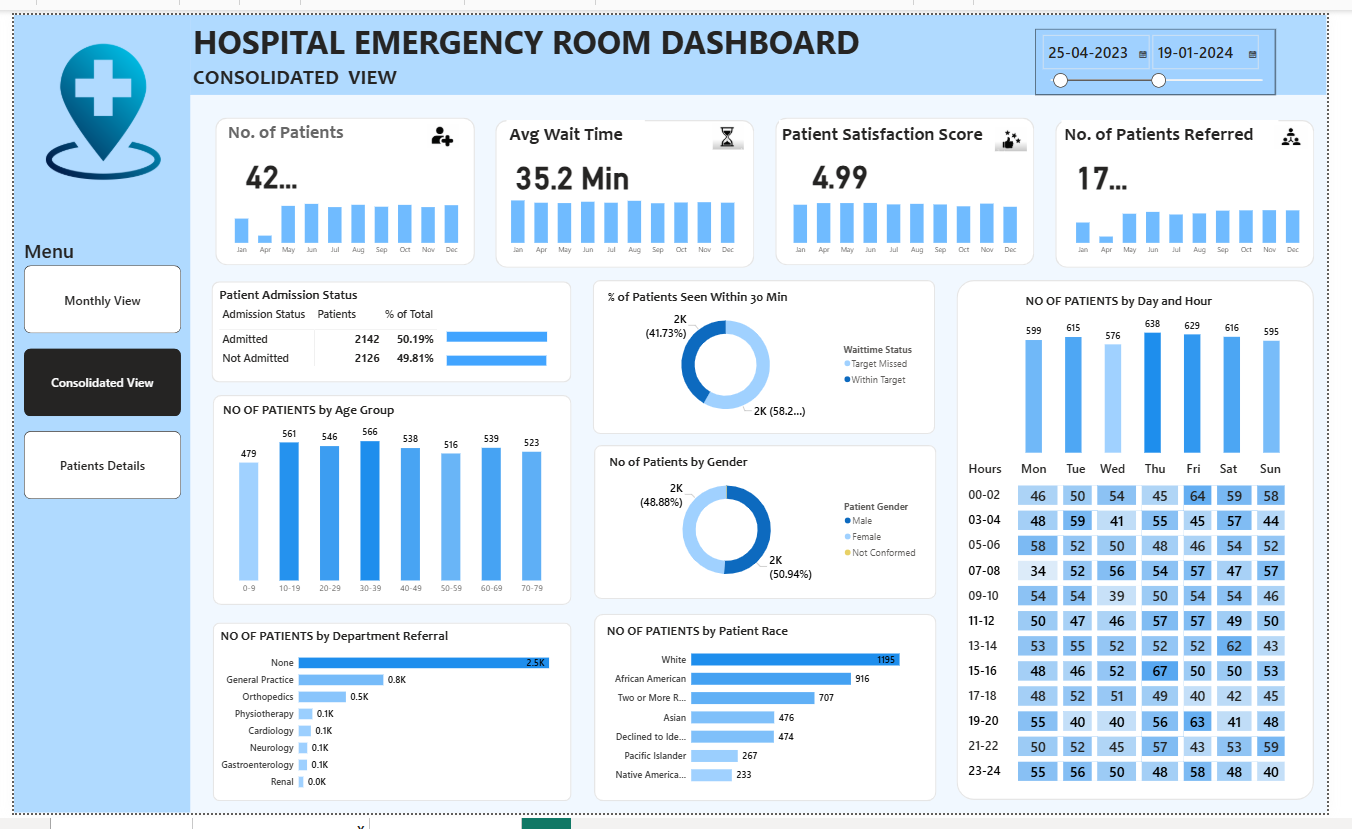

The page's visual inventory and layout, read from the dashboard file:
{"tool":"powerbi","page":{"name":"Consolidated View","canvas":[2300,1399],"ordinal":1},"visuals":[{"type":"shape","box":[0,0,308.8,1397.3],"z":0},{"type":"shape","box":[308.8,0,1990.8,140.2],"z":1000},{"type":"textbox","box":[308.8,2.2,1217.7,100.7],"z":2000},{"type":"shape","box":[351.7,180.6,455,259],"z":3000},{"type":"textbox","box":[309.5,80.2,391.9,60.1],"z":4000},{"type":"card","fields":{"Values":["Hospital ER_Data (1).NO OF PATIENTS"]},"box":[394.4,240,114,71.3],"z":5000},{"type":"textbox","box":[370.7,180.6,221,59.4],"z":6000},{"type":"columnChart","fields":{"Category":["DateTime.Month Name"],"Y":["Hospital ER_Data (1).NO OF PATIENTS"]},"box":[366.5,305.3,434.8,125],"z":7000},{"type":"shape","box":[843.5,183,453.8,259],"z":8000},{"type":"shape","box":[1334.1,180.6,453.8,259],"z":9000},{"type":"shape","box":[1824.8,183,453.8,259],"z":10000},{"type":"columnChart","fields":{"Y":["Hospital ER_Data (1).No Of Patient Referred"],"Category":["DateTime.Month Name"]},"box":[1839.6,305.3,434.8,125],"z":11000},{"type":"columnChart","fields":{"Y":["Hospital ER_Data (1).satisfaction score"],"Category":["DateTime.Month Name"]},"box":[1345.4,305.3,434.8,125],"z":12000},{"type":"columnChart","fields":{"Y":["Avg(Hospital ER_Data (1).Patient Waittime)"],"Category":["DateTime.Month Name"]},"box":[848.8,305.3,434.8,125],"z":13000},{"type":"textbox","box":[862.5,183,242.4,59.4],"z":14000},{"type":"card","fields":{"Values":["Hospital ER_Data (1).Avg Time"]},"box":[869.6,242.4,218.6,71.3],"z":15000},{"type":"textbox","box":[1340.1,183,380.2,59.4],"z":16000},{"type":"shape","box":[346,466.5,630.7,177.4],"z":17000},{"type":"card","fields":{"Values":["Hospital ER_Data (1).satisfaction score"]},"box":[1368.6,240,156.8,71.3],"z":18000},{"type":"textbox","box":[1834.3,183,380.2,59.4],"z":19000},{"type":"card","fields":{"Values":["Hospital ER_Data (1).No Of Patient Referred"]},"box":[1848.6,242.4,114,71.3],"z":20000},{"type":"pivotTable","title":"Patient Admission Status","fields":{"Rows":["Hospital ER_Data (1).Admission Status"],"Values":["Hospital ER_Data (1).NO OF PATIENTS1","Hospital ER_Data (1).NO OF PATIENTS"]},"box":[354.8,475.2,624.2,162.1],"z":21000},{"type":"barChart","fields":{"Category":["Hospital ER_Data (1).Admission Status"],"Y":["Hospital ER_Data (1).NO OF PATIENTS"]},"box":[753.4,521.2,256.2,122.6],"z":22000},{"type":"shape","box":[348.2,665.8,628.5,367.9],"z":23000},{"type":"clusteredColumnChart","fields":{"Category":["Hospital ER_Data (1).Age Group"],"Y":["Hospital ER_Data (1).NO OF PATIENTS"]},"box":[361.4,676.7,597.9,348.2],"z":24000},{"type":"shape","box":[348.2,1064.4,628.5,313.2],"z":25000},{"type":"clusteredBarChart","fields":{"Category":["Hospital ER_Data (1).Department Referral"],"Y":["Hospital ER_Data (1).NO OF PATIENTS"]},"box":[357,1073.1,611,297.8],"z":26000},{"type":"shape","box":[1014.4,465.2,600,270],"z":27000},{"type":"donutChart","title":"% of Patients Seen Within 30 Min","fields":{"Category":["Hospital ER_Data (1).Waittime Status"],"Y":["Hospital ER_Data (1).NO OF PATIENTS"]},"box":[1036.3,480.5,556.3,238.7],"z":28000},{"type":"shape","box":[1015.7,753.7,600,270],"z":29000},{"type":"donutChart","title":"No of Patients by Gender ","fields":{"Y":["Hospital ER_Data (1).NO OF PATIENTS"],"Category":["Hospital ER_Data (1).Patient Gender"]},"box":[1037.6,769.1,556.3,238.7],"z":30000},{"type":"shape","box":[1016.2,1049,600.1,328.5],"z":31000},{"type":"clusteredBarChart","fields":{"Y":["Hospital ER_Data (1).NO OF PATIENTS"],"Category":["Hospital ER_Data (1).Patient Race"]},"box":[1033.7,1064.4,558.5,297.8],"z":32000},{"type":"shape","box":[1651.3,464.3,626.4,911.1],"z":33000},{"type":"pivotTable","fields":{"Rows":["Hospital ER_Data (1).Waittime Interval"],"Columns":["DateTime.Day Name"],"Values":["Hospital ER_Data (1).NO OF PATIENTS"]},"box":[1662.3,773.1,604.5,584.7],"z":34000},{"type":"columnChart","title":"NO OF PATIENTS by Day and Hour","fields":{"Category":["DateTime.Day Name"],"Y":["Hospital ER_Data (1).NO OF PATIENTS"]},"box":[1767.4,486.2,457.7,286.9],"z":35000},{"type":"image","box":[37.2,46,238.7,247.5],"z":36000},{"type":"image","box":[724.9,157.7,54.8,109.5],"z":37000},{"type":"image","box":[1224.2,170.8,54.8,83.2],"z":38000},{"type":"image","box":[1717,197.1,59.1,41.6],"z":39000},{"type":"image","box":[2207.6,173,59.1,78.8],"z":40000},{"type":"slicer","fields":{"Values":["DateTime.Date"]},"box":[1789.3,24.1,420.5,116.1],"z":41000},{"type":"pageNavigator","title":"Menu","box":[16.6,389.7,275.6,461],"z":42000}]}

Visuals, with their boxes in screenshot pixels (x1, y1, x2, y2), scaled from the page's 2300x1399 canvas onto the 1352x829 screenshot:
shape: (0,0,182,828)
shape: (182,0,1351,83)
textbox: (182,1,897,61)
shape: (207,107,474,260)
textbox: (182,48,412,83)
card - Hospital ER_Data (1).NO OF PATIENTS: (232,142,299,184)
textbox: (218,107,348,142)
columnChart - DateTime.Month Name x Hospital ER_Data (1).NO OF PATIENTS: (215,181,471,255)
shape: (496,108,763,262)
shape: (784,107,1051,260)
shape: (1073,108,1339,262)
columnChart - Hospital ER_Data (1).No Of Patient Referred x DateTime.Month Name: (1081,181,1337,255)
columnChart - Hospital ER_Data (1).satisfaction score x DateTime.Month Name: (791,181,1046,255)
columnChart - Avg(Hospital ER_Data (1).Patient Waittime) x DateTime.Month Name: (499,181,755,255)
textbox: (507,108,649,144)
card - Hospital ER_Data (1).Avg Time: (511,144,640,186)
textbox: (788,108,1011,144)
shape: (203,276,574,382)
card - Hospital ER_Data (1).satisfaction score: (804,142,897,184)
textbox: (1078,108,1302,144)
card - Hospital ER_Data (1).No Of Patient Referred: (1087,144,1154,186)
"Patient Admission Status" pivotTable: (209,282,575,378)
barChart - Hospital ER_Data (1).Admission Status x Hospital ER_Data (1).NO OF PATIENTS: (443,309,593,381)
shape: (205,395,574,613)
clusteredColumnChart - Hospital ER_Data (1).Age Group x Hospital ER_Data (1).NO OF PATIENTS: (212,401,564,607)
shape: (205,631,574,816)
clusteredBarChart - Hospital ER_Data (1).Department Referral x Hospital ER_Data (1).NO OF PATIENTS: (210,636,569,812)
shape: (596,276,949,436)
"% of Patients Seen Within 30 Min" donutChart: (609,285,936,426)
shape: (597,447,950,607)
"No of Patients by Gender " donutChart: (610,456,937,597)
shape: (597,622,950,816)
clusteredBarChart - Hospital ER_Data (1).NO OF PATIENTS x Hospital ER_Data (1).Patient Race: (608,631,936,807)
shape: (971,275,1339,815)
pivotTable - Hospital ER_Data (1).Waittime Interval x DateTime.Day Name: (977,458,1332,805)
"NO OF PATIENTS by Day and Hour" columnChart: (1039,288,1308,458)
image: (22,27,162,174)
image: (426,93,458,158)
image: (720,101,752,151)
image: (1009,117,1044,141)
image: (1298,103,1332,149)
slicer - DateTime.Date: (1052,14,1299,83)
"Menu" pageNavigator: (10,231,172,504)
